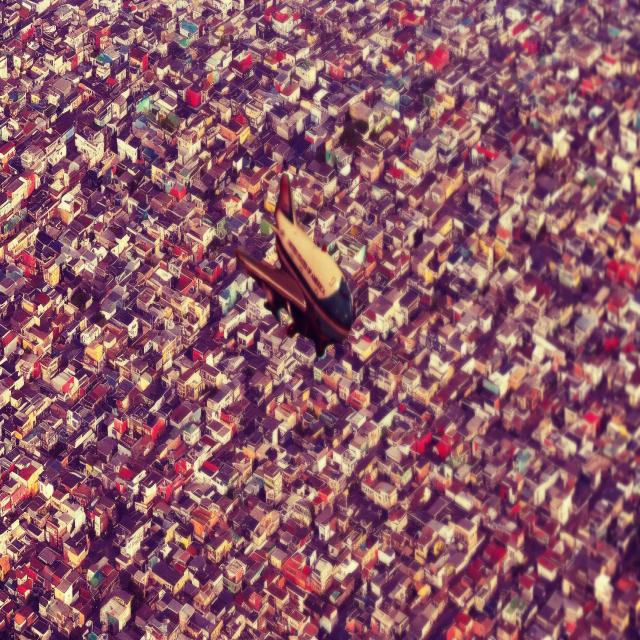airplane: (234, 170, 354, 358)
